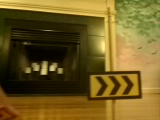right: (87, 71, 141, 97)
